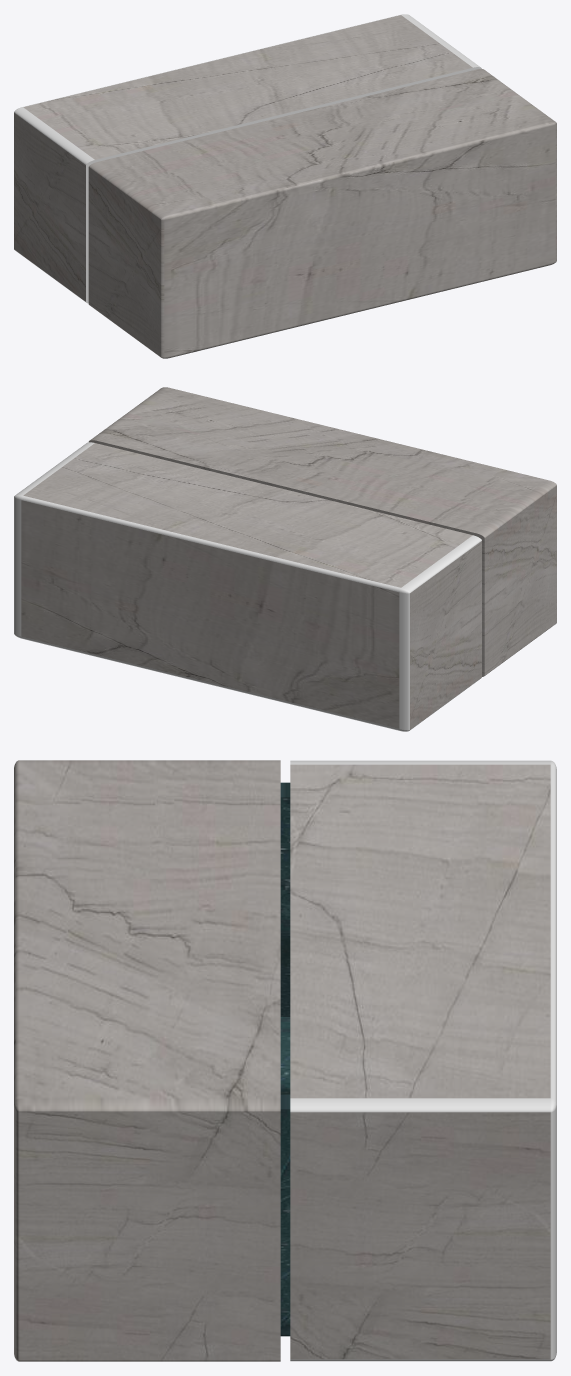
File: WalletBox.glb
3 renders of one model, top to bottom at view 1: azimuth 30°, elevation 25°; view 2: azimuth 150°, elevation 25°; view 3: azimuth 270°, elevation 25°, orthographic. The views are drawn at different scales.
Parts seen in each view (by area): view 1: Cube.001, Cube.002; view 2: Cube.002, Cube.001; view 3: Cube.001, Cube.002, Cube.
Boxes of the visible parts, x1,y1,x2,y2 form: Cube.001: (88, 69, 556, 358); Cube.002: (14, 14, 481, 303); Cube.002: (14, 442, 481, 731); Cube.001: (88, 387, 556, 676); Cube.001: (14, 760, 280, 1361); Cube.002: (290, 760, 556, 1361); Cube: (280, 782, 290, 1336).
Bounding box in the file's own units: 5.32 × 1.84 × 3.49.
Materials: 7 (6 with a texture image).
